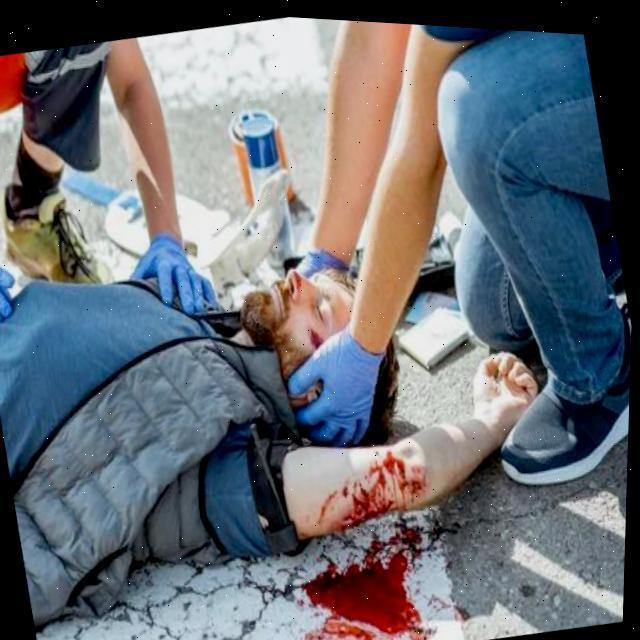knife: (302, 553, 420, 634), (350, 487, 395, 520), (370, 528, 423, 551), (322, 621, 372, 640), (381, 452, 406, 479), (369, 464, 386, 487), (341, 515, 360, 534), (400, 478, 424, 493), (308, 328, 324, 349), (342, 485, 349, 499)
